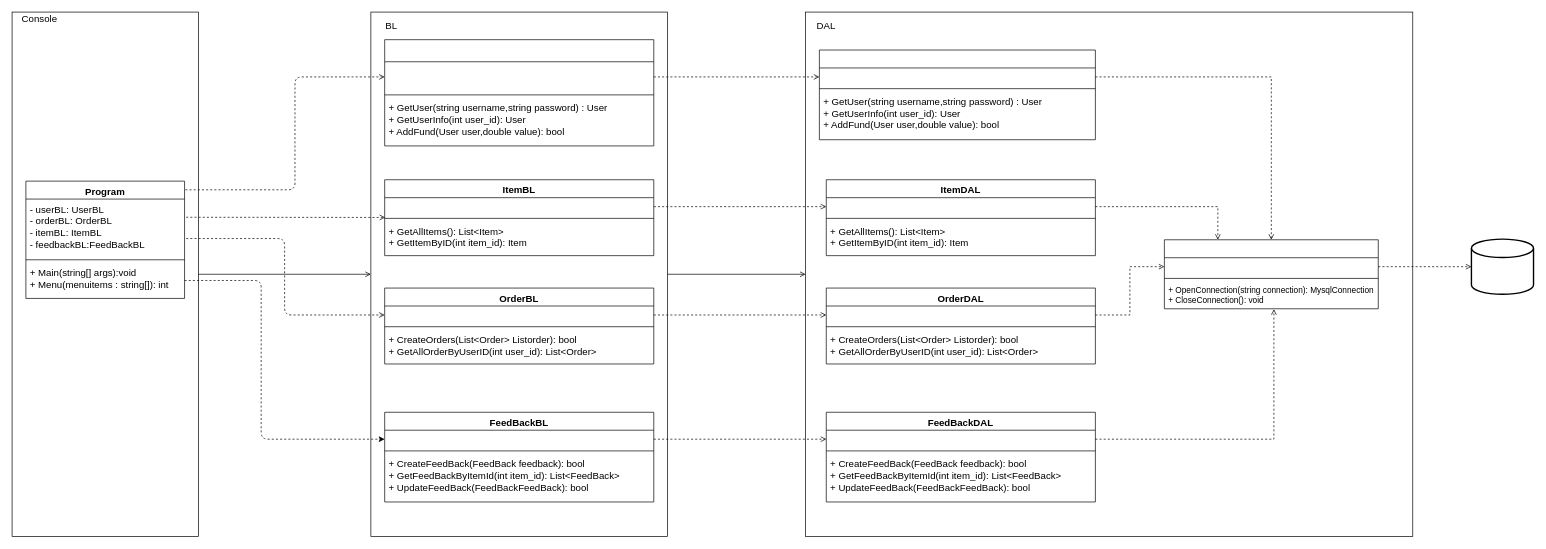
The diagram is 1546 pixels wide and 549 high, and some of its shapes have lost their labels. The box of each missing label's shape, as (x1, y1, x2, y2) in pixels:
Database: (1470, 238, 1534, 295)
DBHelper: (1164, 239, 1378, 309)
UserBL: (384, 39, 654, 146)
UserDAL: (819, 49, 1095, 140)
